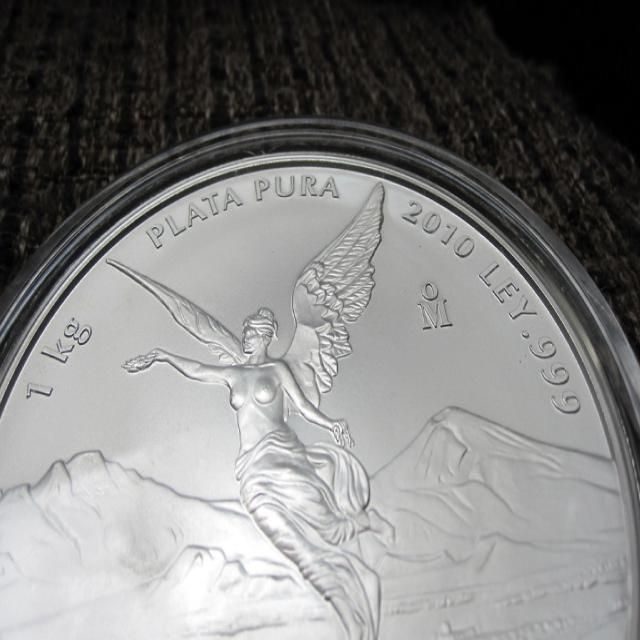Coin: (0, 151, 640, 639)
